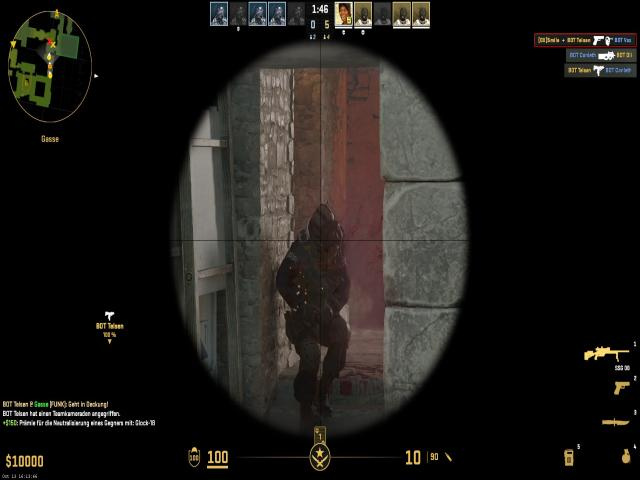CT: (286, 201, 348, 406)
CT-Head: (306, 197, 344, 256)
